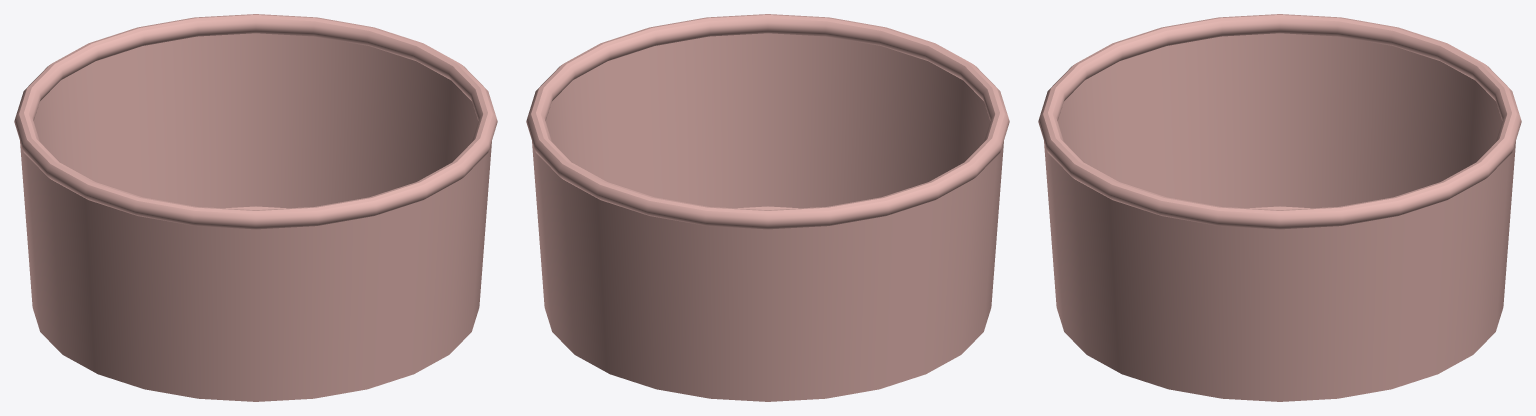
File: Tarrina.fbx
3 renders of one model, left to right at view 1: azimuth 30°, elevation 25°; view 2: azimuth 150°, elevation 25°; view 3: azimuth 270°, elevation 25°, orthographic.
Parts seen in each view (by area): view 1: Tarrina; view 2: Tarrina; view 3: Tarrina.
Part boxes in pixels (bbox=[...]): Tarrina: bbox=[14, 14, 497, 401]; Tarrina: bbox=[526, 14, 1009, 401]; Tarrina: bbox=[1038, 14, 1521, 401].
Size of the model in its own units: 338 by 151 by 338.
